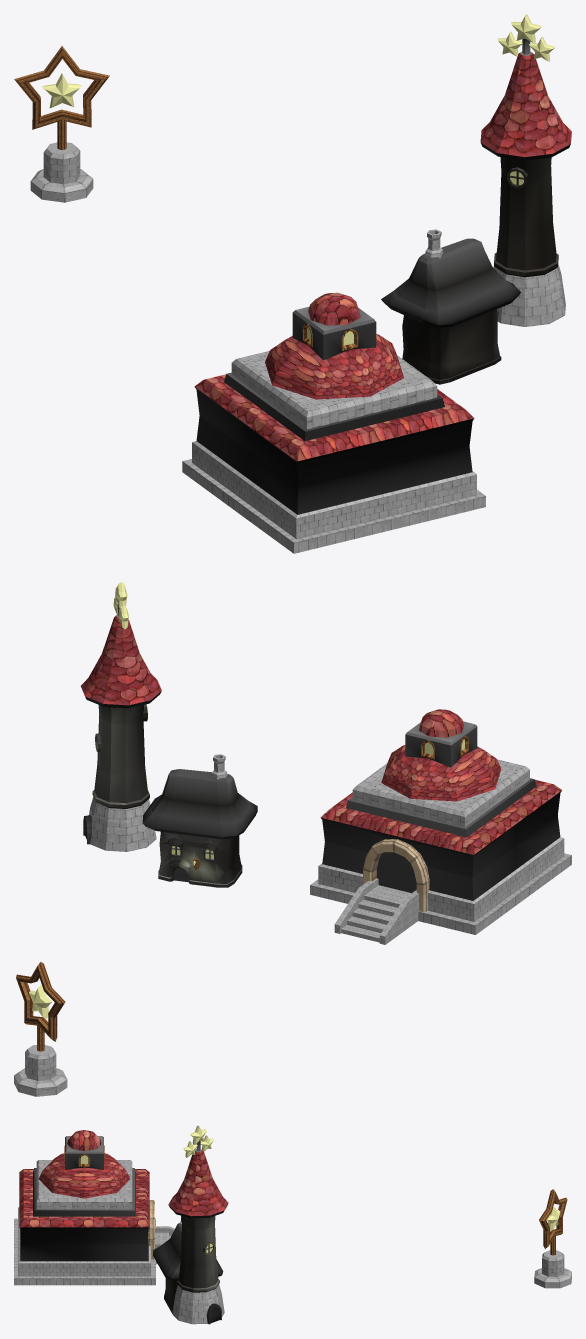
The model's file is PeachCastleTownBeforeAttack.dae.
The picture shows the model from 3 angles, top to bottom: view 1: azimuth 30°, elevation 25°; view 2: azimuth 150°, elevation 25°; view 3: azimuth 270°, elevation 25°; orthographic projection. The views are drawn at different scales.
Parts seen in each view (by area): view 1: m4, m2, m3, m5, m1, m6, m0; view 2: m2, m4, m3, m1, m5, m6, m7, m0; view 3: m2, m3, m4, m1, m5, m6, m0, m7.
Part boxes in pixels (x1,y1,x2,y2): m4: [196, 157, 556, 514]; m2: [30, 142, 565, 553]; m3: [194, 52, 571, 461]; m5: [381, 238, 520, 325]; m1: [195, 38, 570, 463]; m6: [14, 46, 358, 350]; m0: [42, 14, 554, 345]; m2: [14, 754, 571, 1096]; m4: [94, 705, 560, 900]; m3: [81, 616, 561, 854]; m1: [83, 604, 561, 893]; m5: [143, 769, 257, 866]; m6: [16, 736, 468, 1051]; m7: [363, 839, 429, 911]; m0: [29, 582, 464, 1018]; m2: [14, 1160, 571, 1324]; m3: [19, 1130, 228, 1227]; m4: [20, 1136, 218, 1310]; m1: [19, 1141, 227, 1324]; m5: [153, 1223, 223, 1279]; m6: [64, 1145, 567, 1255]; m0: [80, 1125, 560, 1252]; m7: [148, 1200, 154, 1259].
Size of the model in its own units: 3625 by 2836 by 6599.
